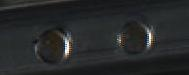joints: (31, 24, 73, 65), (112, 19, 156, 56)
